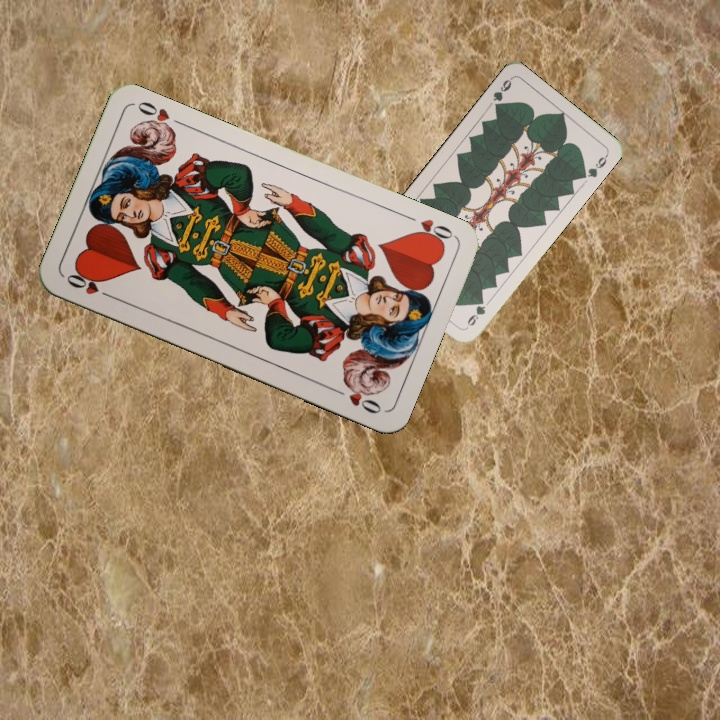G9: (489, 74, 514, 112), (462, 295, 488, 331)
HO: (400, 210, 457, 249), (62, 269, 117, 302)
